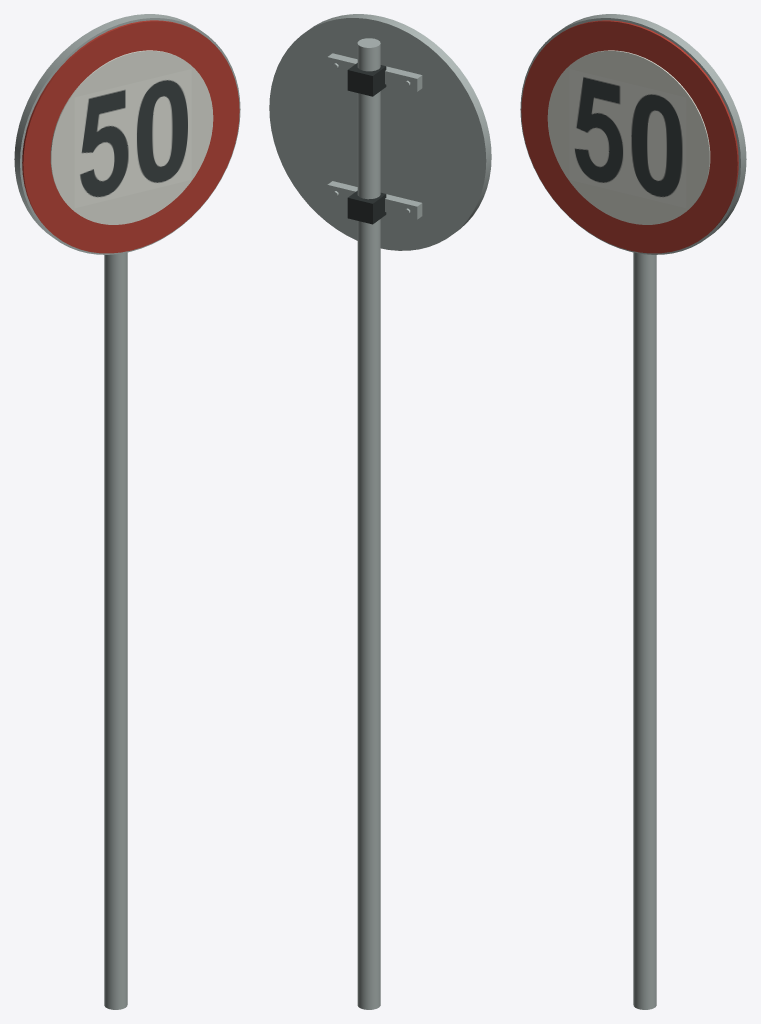
Rendered from speed-approved-v3.glb.
The picture shows the model from 3 angles, left to right: view 1: azimuth 30°, elevation 25°; view 2: azimuth 150°, elevation 25°; view 3: azimuth 330°, elevation 25°; orthographic projection.
Visible parts, largest first — view 1: 원형 제한속도 표지; view 2: 원형 제한속도 표지; view 3: 원형 제한속도 표지.
Part boxes in pixels (x1,y1,x2,y2): 원형 제한속도 표지: [14, 14, 240, 1009]; 원형 제한속도 표지: [269, 14, 491, 1009]; 원형 제한속도 표지: [520, 14, 746, 1009].
Bounding box in the file's own units: 0.604 × 2.6 × 0.1245.
5 materials, 1 textured.
